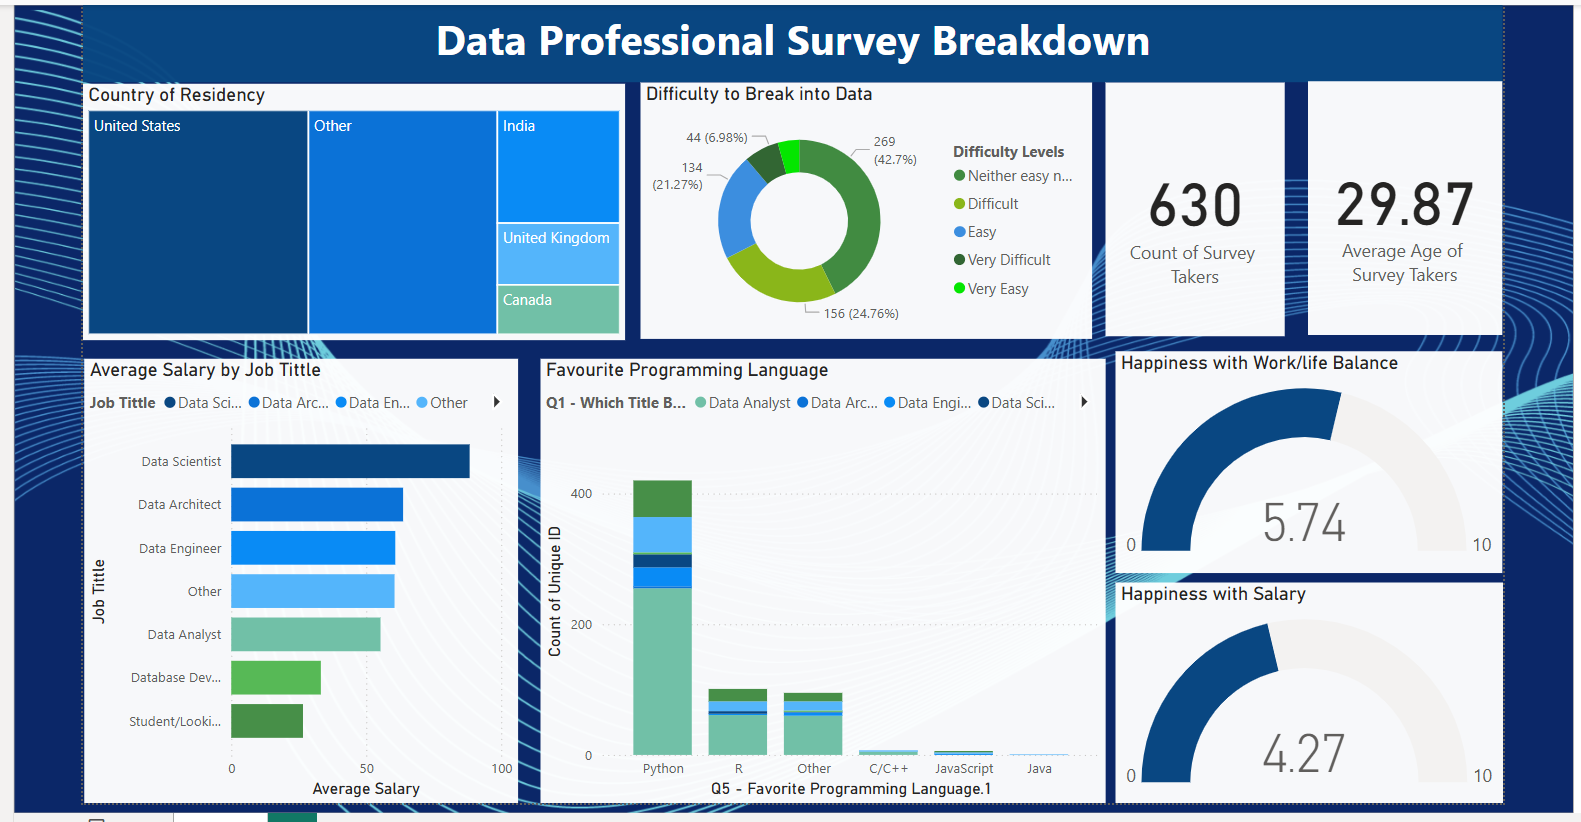

The dashboard page shown, as its layout file describes it:
{"tool":"powerbi","page":{"name":"Page 1","canvas":[1280,720],"ordinal":0},"visuals":[{"type":"textbox","box":[0,0,1280.3,69.7],"z":1000},{"type":"card","fields":{"Values":["Count(Data Professional Survey.Unique ID)"]},"box":[922,69.7,161.4,228.7],"z":2000},{"type":"card","fields":{"Values":["Avg(Data Professional Survey.Q10 - Current Age)"]},"box":[1105.1,68.5,174.9,228.7],"z":3000},{"type":"barChart","title":"Average Salary by Job Tittle","fields":{"Y":["Avg(Data Professional Survey.Average Salary)"],"Series":["Data Professional Survey.Q1 - Which Title Best Fits your Current Role?.1"],"Category":["Data Professional Survey.Q1 - Which Title Best Fits your Current Role?.1"]},"box":[1.2,319.2,391.3,401.1],"z":4000},{"type":"columnChart","title":"Favourite Programming Language","fields":{"Category":["Data Professional Survey.Q5 - Favorite Programming Language.1"],"Y":["CountNonNull(Data Professional Survey.Unique ID)"],"Series":["Data Professional Survey.Q1 - Which Title Best Fits your Current Role?.1"]},"box":[412.1,319.2,509.9,401.1],"z":5000},{"type":"treemap","title":" Country of Residency","fields":{"Group":["Data Professional Survey.Q11 - Which Country do you live in?.1"],"Values":["CountNonNull(Data Professional Survey.Q11 - Which Country do you live in?.1)"]},"box":[0,70.9,489.1,231.1],"z":6000},{"type":"gauge","title":"Happiness with Work/life Balance","fields":{"Y":["Avg(Data Professional Survey.Q6 - How Happy are you in your Current Position with the following? (Work/Life Balance))"],"MinValue":["Min(Data Professional Survey.Q6 - How Happy are you in your Current Position with the following? (Work/Life Balance))1"],"MaxValue":["Max(Data Professional Survey.Q6 - How Happy are you in your Current Position with the following? (Work/Life Balance))2"]},"box":[931.2,312,349,199.6],"z":7000},{"type":"gauge","title":"Happiness with Salary","fields":{"Y":["Avg(Data Professional Survey.Q6 - How Happy are you in your Current Position with the following? (Salary))"],"MinValue":["Min(Data Professional Survey.Q6 - How Happy are you in your Current Position with the following? (Salary))"],"MaxValue":["Max(Data Professional Survey.Q6 - How Happy are you in your Current Position with the following? (Salary))"]},"box":[930.6,520.9,349.7,199.3],"z":8000},{"type":"donutChart","title":"Difficulty to Break into Data","fields":{"Category":["Data Professional Survey.Q7 - How difficult was it for you to break into Data?"],"Y":["CountNonNull(Data Professional Survey.Q7 - How difficult was it for you to break into Data?)"]},"box":[502.7,69.9,406.9,231.1],"z":9000}]}

Visuals, with their boxes in screenshot pixels (x1, y1, x2, y2):
textbox: detection(58, 0, 1502, 79)
card - Count(Data Professional Survey.Unique ID): detection(1098, 79, 1280, 337)
card - Avg(Data Professional Survey.Q10 - Current Age): detection(1304, 77, 1501, 335)
"Average Salary by Job Tittle" barChart: detection(59, 360, 500, 812)
"Favourite Programming Language" columnChart: detection(522, 360, 1098, 812)
" Country of Residency" treemap: detection(58, 80, 609, 341)
"Happiness with Work/life Balance" gauge: detection(1108, 352, 1502, 577)
"Happiness with Salary" gauge: detection(1107, 587, 1502, 812)
"Difficulty to Break into Data" donutChart: detection(625, 79, 1084, 339)
